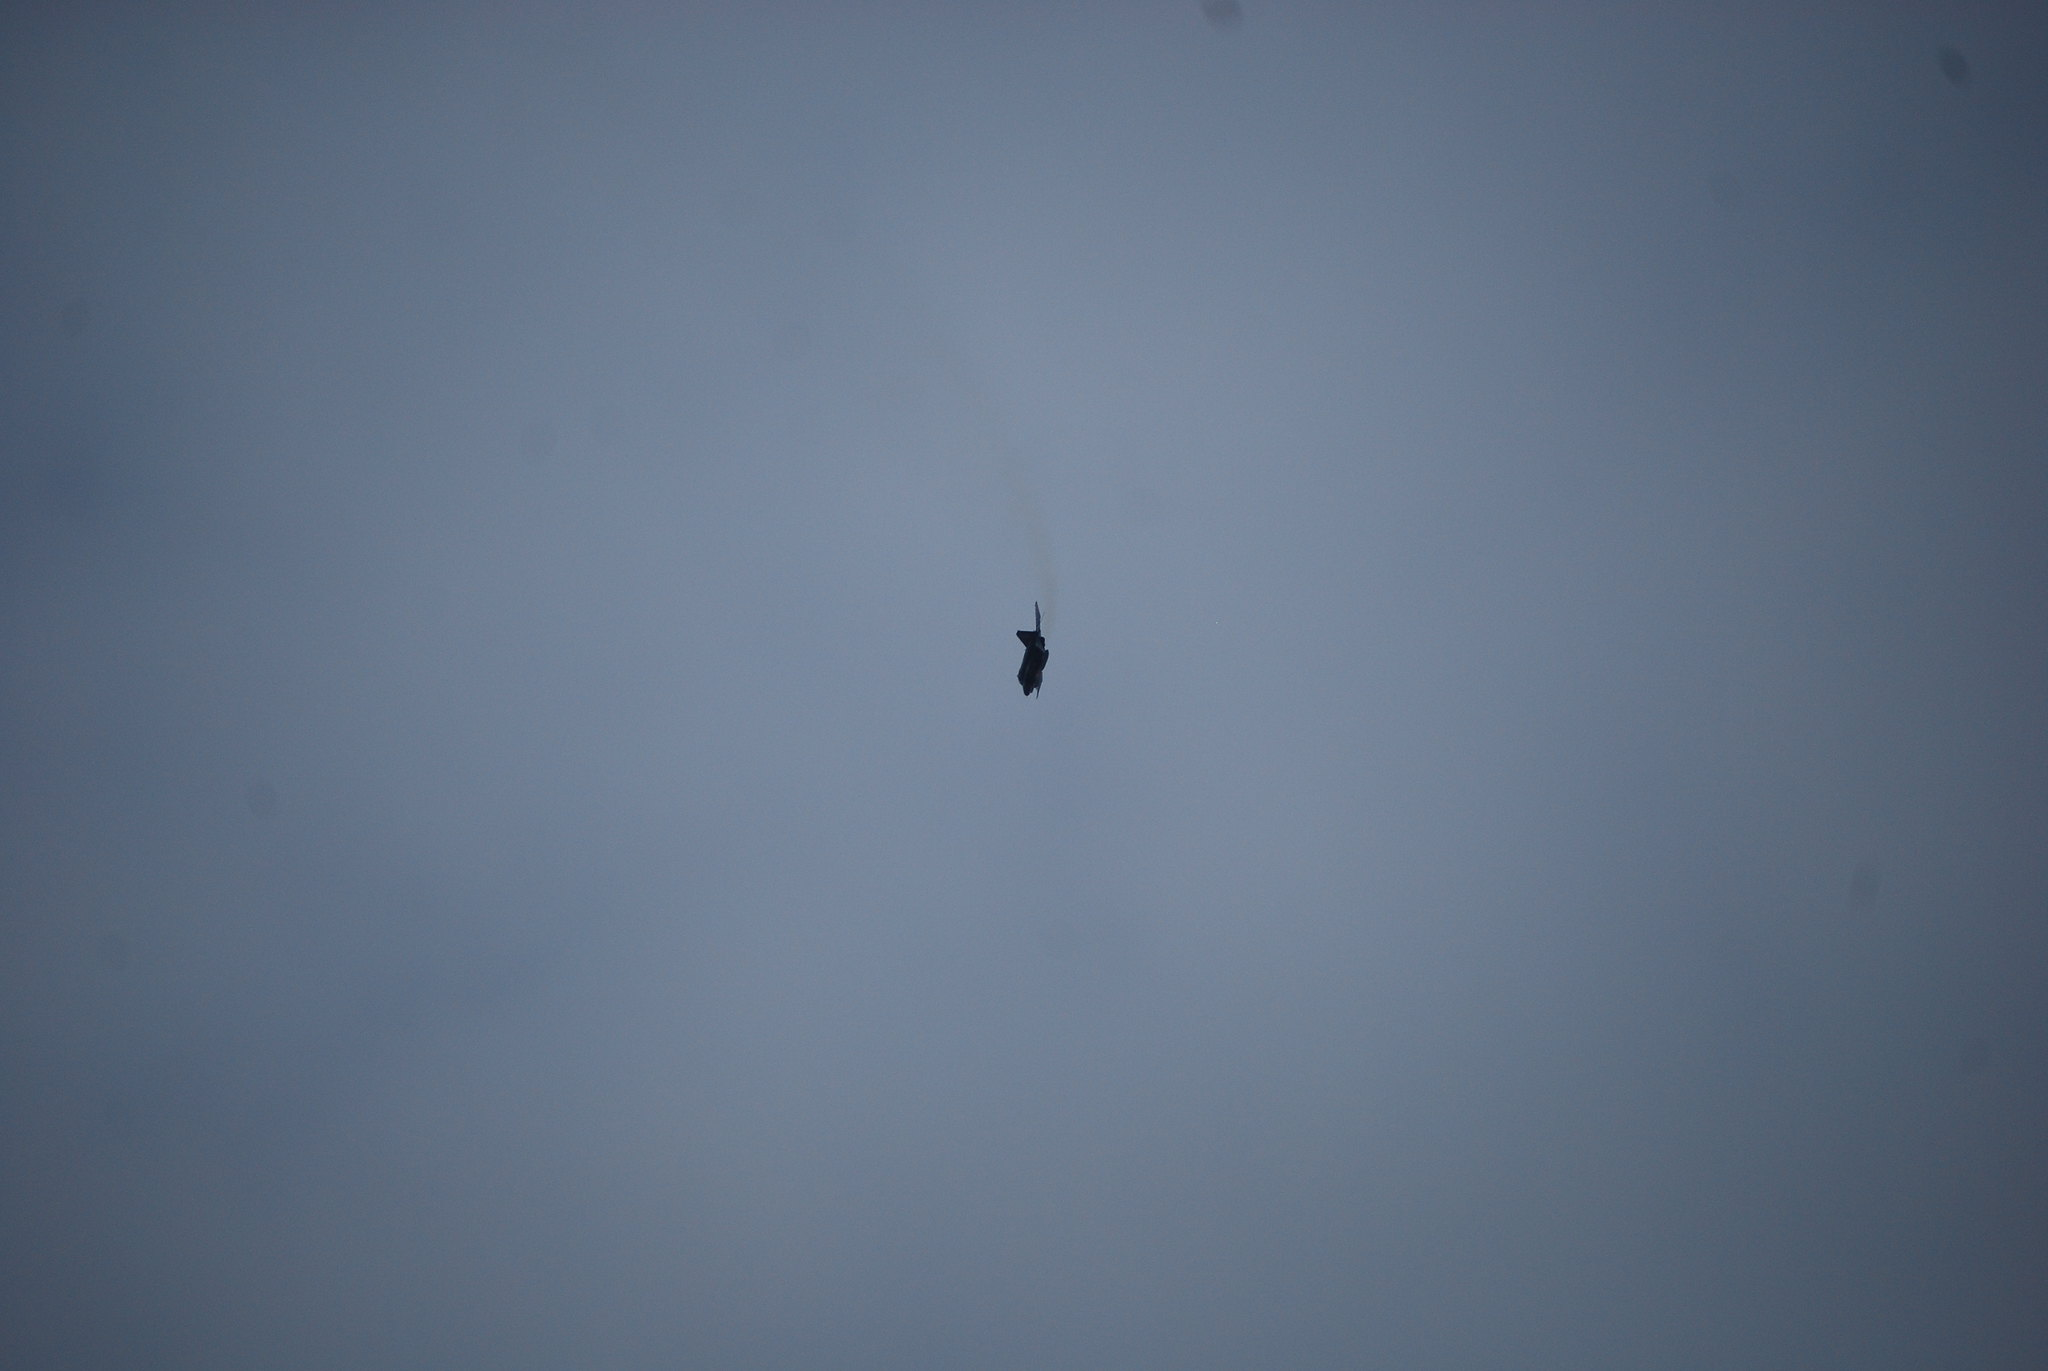F4: (1016, 600, 1049, 699)
